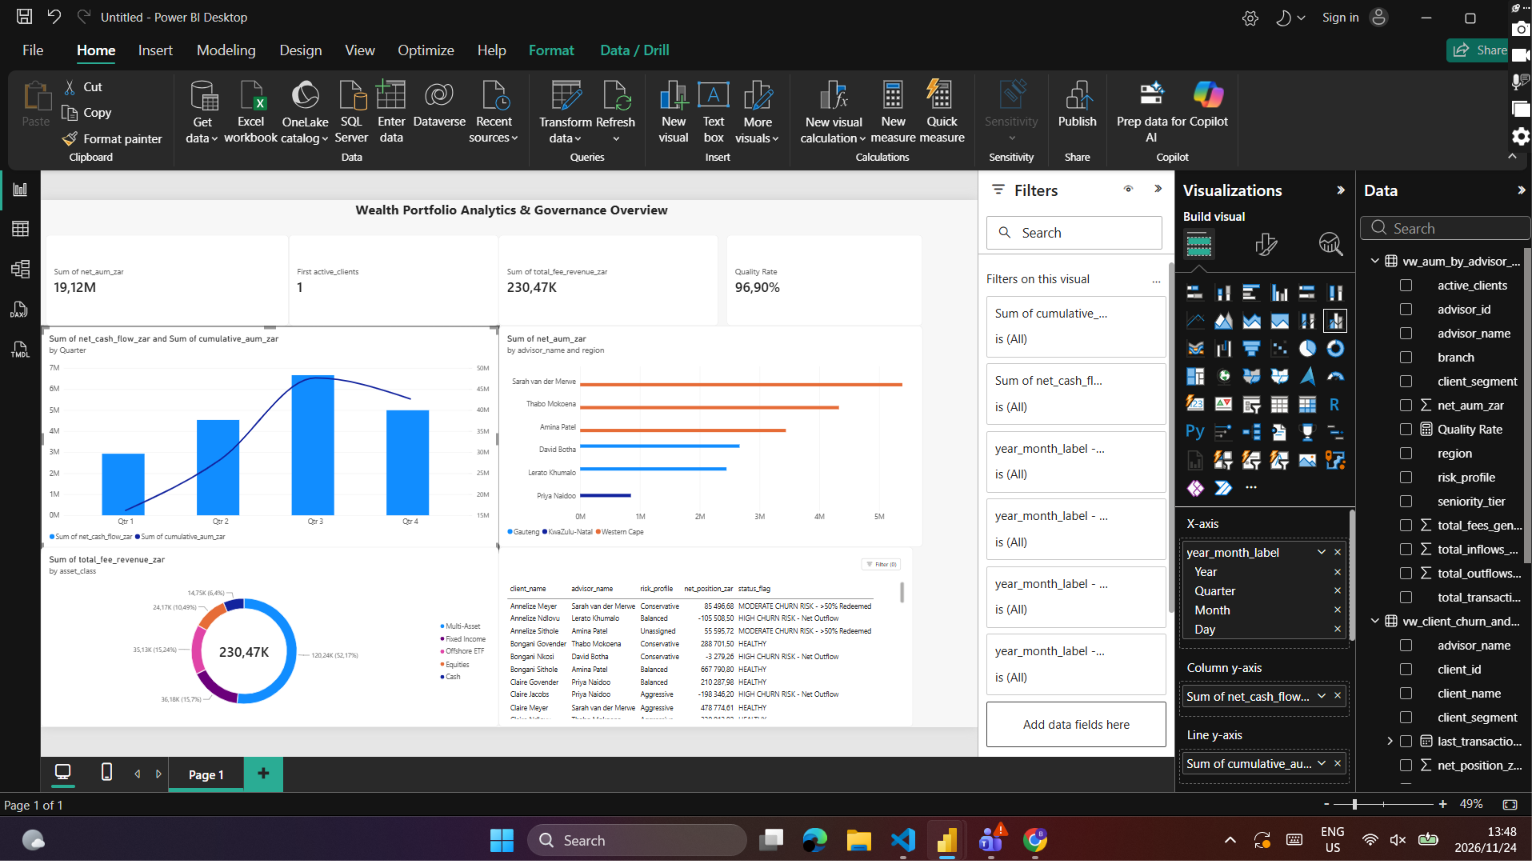

The page's visual inventory and layout, read from the dashboard file:
{"tool":"powerbi","page":{"name":"Page 1","canvas":[1920,1080],"ordinal":0},"visuals":[{"type":"textbox","box":[10.3,0,1910.1,144.1],"z":0},{"type":"cardVisual","fields":{"Data":["vw_aum_by_advisor_and_risk.Quality Rate"]},"box":[1406,71.7,401.7,186.5],"z":1000},{"type":"lineClusteredColumnComboChart","fields":{"Category":["vw_monthly_net_flows.year_month_label.Variation.Date Hierarchy.Year","vw_monthly_net_flows.year_month_label.Variation.Date Hierarchy.Quarter","vw_monthly_net_flows.year_month_label.Variation.Date Hierarchy.Month","vw_monthly_net_flows.year_month_label.Variation.Date Hierarchy.Day"],"Y":["Sum(vw_monthly_net_flows.net_cash_flow_zar)"],"Y2":["Sum(vw_monthly_net_flows.cumulative_aum_zar)"]},"box":[0,258.2,938.7,463.2],"z":2000},{"type":"clusteredBarChart","fields":{"Category":["vw_aum_by_advisor_and_risk.advisor_name"],"Series":["vw_aum_by_advisor_and_risk.region"],"Y":["Sum(vw_aum_by_advisor_and_risk.net_aum_zar)"]},"box":[938.7,258.2,869,452.9],"z":3000},{"type":"donutChart","fields":{"Category":["vw_fee_revenue_by_asset_class.asset_class"],"Y":["Sum(vw_fee_revenue_by_asset_class.total_fee_revenue_zar)"]},"box":[0,711.2,938.7,368.9],"z":4000},{"type":"tableEx","fields":{"Values":["vw_client_churn_and_anomaly_flags.client_name","vw_client_churn_and_anomaly_flags.advisor_name","vw_client_churn_and_anomaly_flags.risk_profile","vw_client_churn_and_anomaly_flags.net_position_zar","vw_client_churn_and_anomaly_flags.status_flag"]},"box":[938.7,711.2,848.5,368.9],"z":5000},{"type":"cardVisual","fields":{"Data":["Sum(vw_aum_by_advisor_and_risk.net_aum_zar)"]},"box":[10.2,71.7,498,186.5],"z":6000},{"type":"cardVisual","fields":{"Data":["Sum(vw_fee_revenue_by_asset_class.total_fee_revenue_zar)"]},"box":[938.7,71.7,450.9,186.5],"z":7000},{"type":"cardVisual","fields":{"Data":["CountNonNull(vw_aum_by_advisor_and_risk.active_clients)"]},"box":[508.3,71.7,430.4,186.5],"z":8000}]}

Visuals, with their boxes on the page's 1920x1080 design canvas (x1, y1, x2, y2). These are canvas units, not pixel positions in the 1532x861 screenshot, which may show the page scaled, cropped or inside an application window:
textbox: <box>10,0,1920,144</box>
cardVisual - vw_aum_by_advisor_and_risk.Quality Rate: <box>1406,72,1808,258</box>
lineClusteredColumnComboChart - vw_monthly_net_flows.year_month_label.Variation.Date Hierarchy.Year x vw_monthly_net_flows.year_month_label.Variation.Date Hierarchy.Quarter: <box>0,258,939,721</box>
clusteredBarChart - vw_aum_by_advisor_and_risk.advisor_name x vw_aum_by_advisor_and_risk.region: <box>939,258,1808,711</box>
donutChart - vw_fee_revenue_by_asset_class.asset_class x Sum(vw_fee_revenue_by_asset_class.total_fee_revenue_zar): <box>0,711,939,1080</box>
tableEx - vw_client_churn_and_anomaly_flags.client_name x vw_client_churn_and_anomaly_flags.advisor_name: <box>939,711,1787,1080</box>
cardVisual - Sum(vw_aum_by_advisor_and_risk.net_aum_zar): <box>10,72,508,258</box>
cardVisual - Sum(vw_fee_revenue_by_asset_class.total_fee_revenue_zar): <box>939,72,1390,258</box>
cardVisual - CountNonNull(vw_aum_by_advisor_and_risk.active_clients): <box>508,72,939,258</box>
